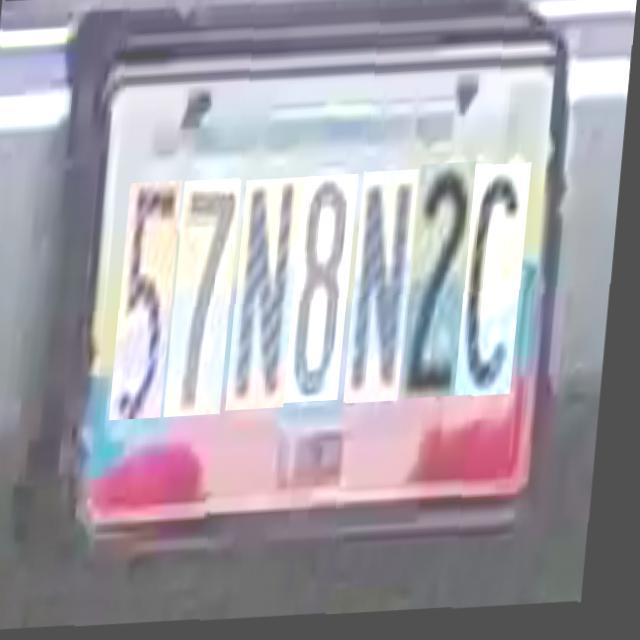2: (408, 164, 479, 400)
5: (117, 182, 185, 420)
7: (172, 180, 244, 418)
8: (291, 176, 361, 404)
C: (462, 164, 534, 398)
N: (234, 178, 308, 412), (351, 170, 422, 404)
